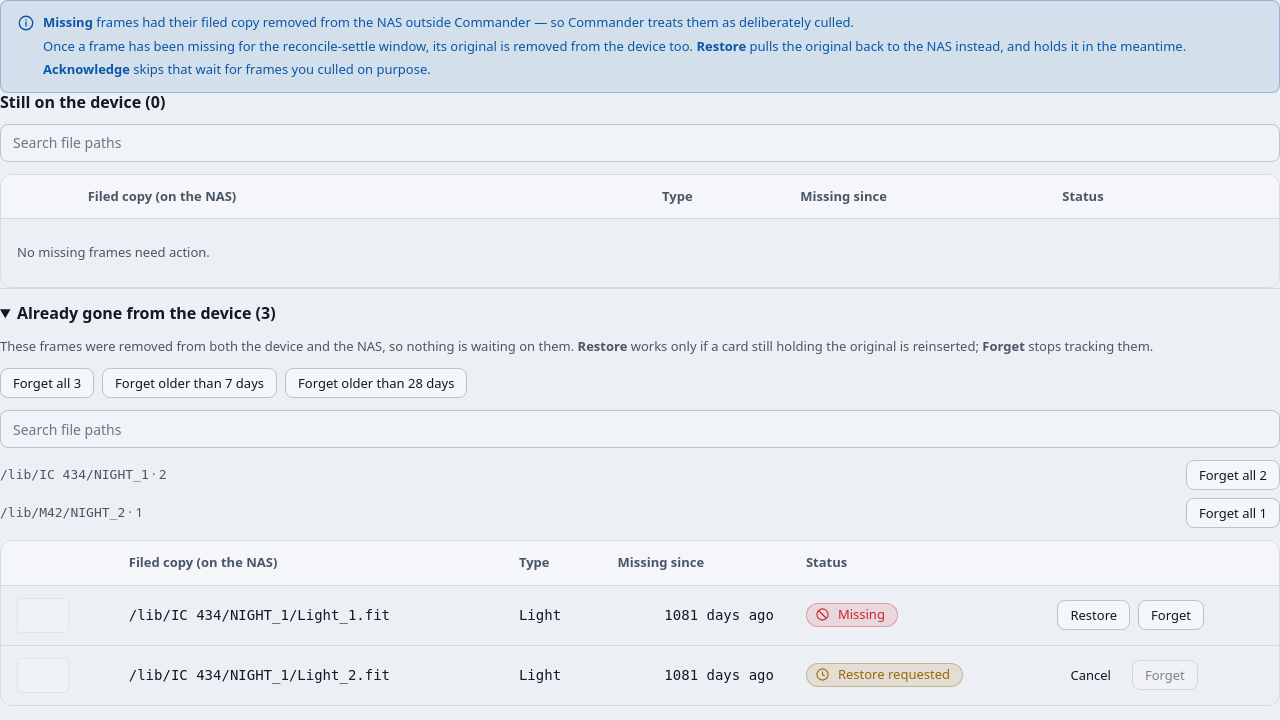
Test: MissingFrames › Forget › shows the server's count and skips, and confirms with the minted scope and token
The width and height of the screenshot is (1280, 720).
Click the button "Forget all 2".
click(1233, 475)  # box [1186, 460, 1279, 490]
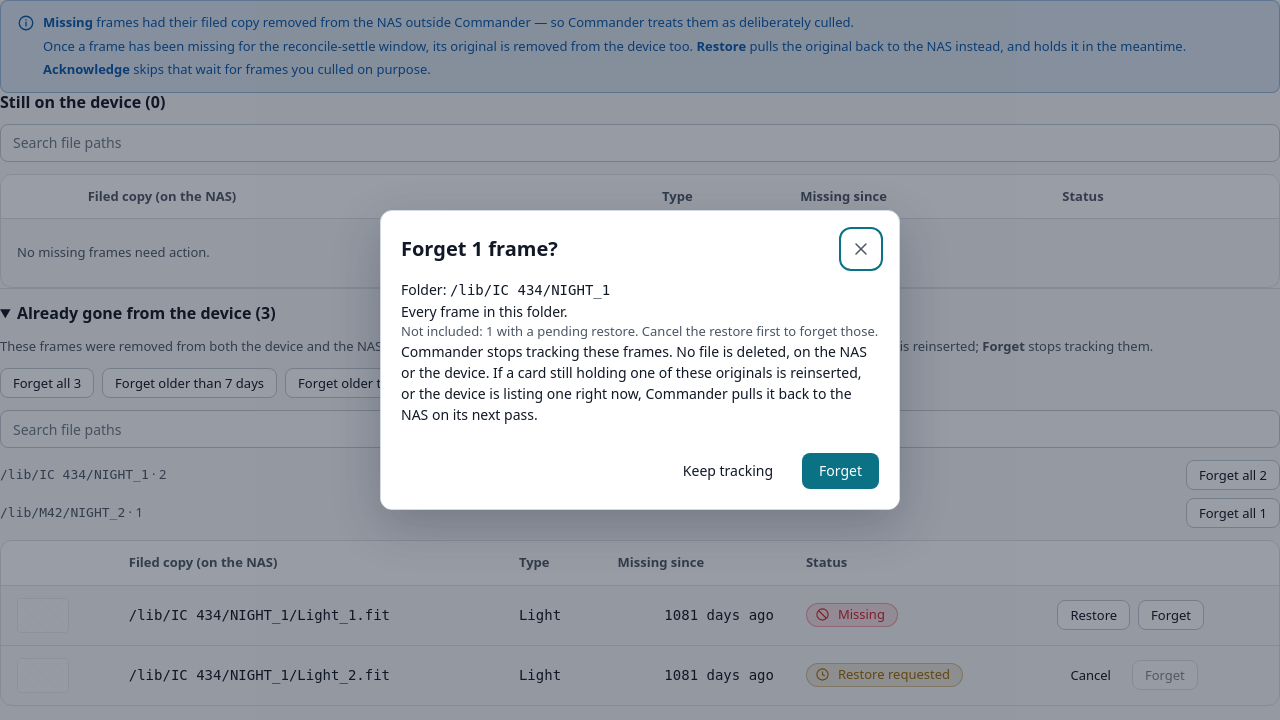
Check: the heading "Forget 1 frame?" is shown, box [401, 237, 558, 261]
Click the button "Forget".
click(840, 471)  # box [802, 453, 879, 489]
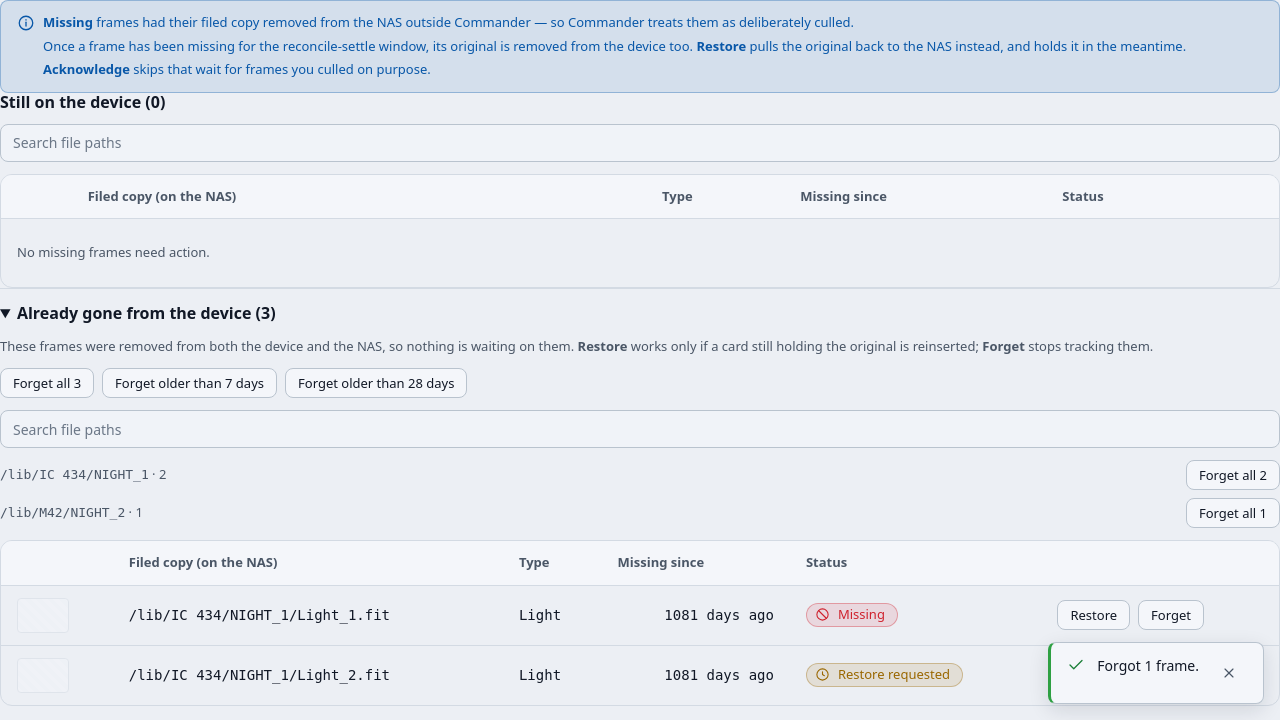
Check: the dialog is gone
Check: the text "Forgot 1 frame." is shown, box [1097, 655, 1199, 676]
